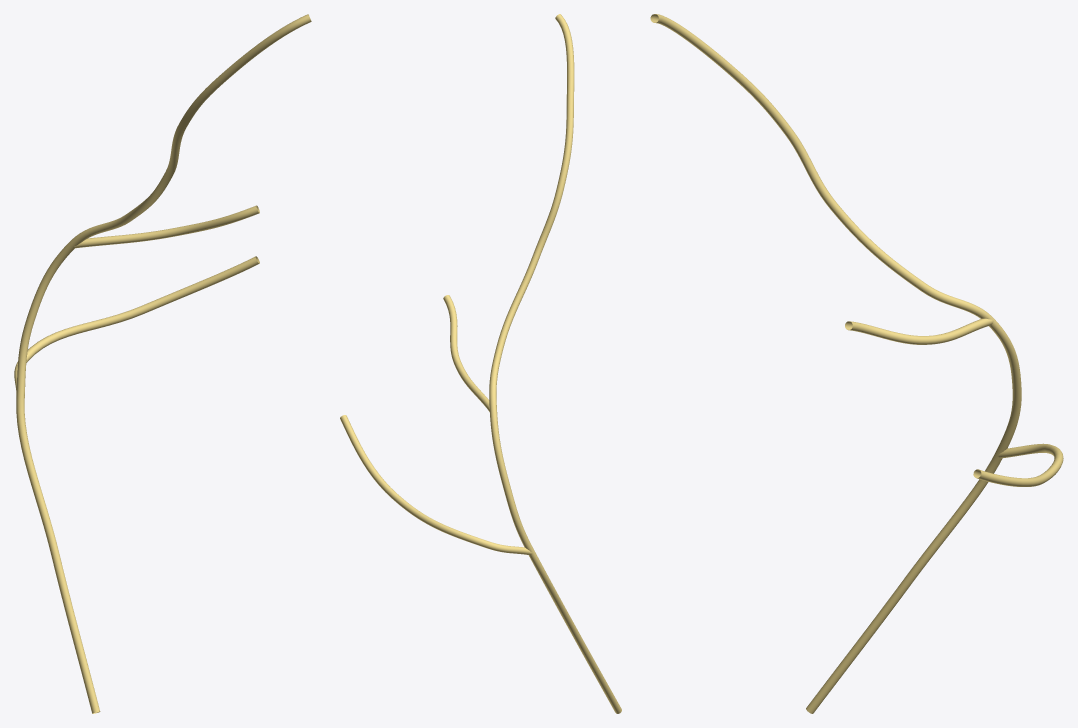
The picture shows the model from 3 angles, left to right: view 1: azimuth 30°, elevation 25°; view 2: azimuth 150°, elevation 25°; view 3: azimuth 270°, elevation 25°; orthographic projection. The views are drawn at different scales.
Visible parts, largest first — view 1: ZA_200a26560204969d; view 2: ZA_200a26560204969d; view 3: ZA_200a26560204969d.
Part boxes in pixels (x1,y1,x2,y2): ZA_200a26560204969d: (14,14,311,713); ZA_200a26560204969d: (340,14,621,713); ZA_200a26560204969d: (650,14,1063,713).
Bounding box in the file's own units: 0.0334 × 0.0935 × 0.0453.
